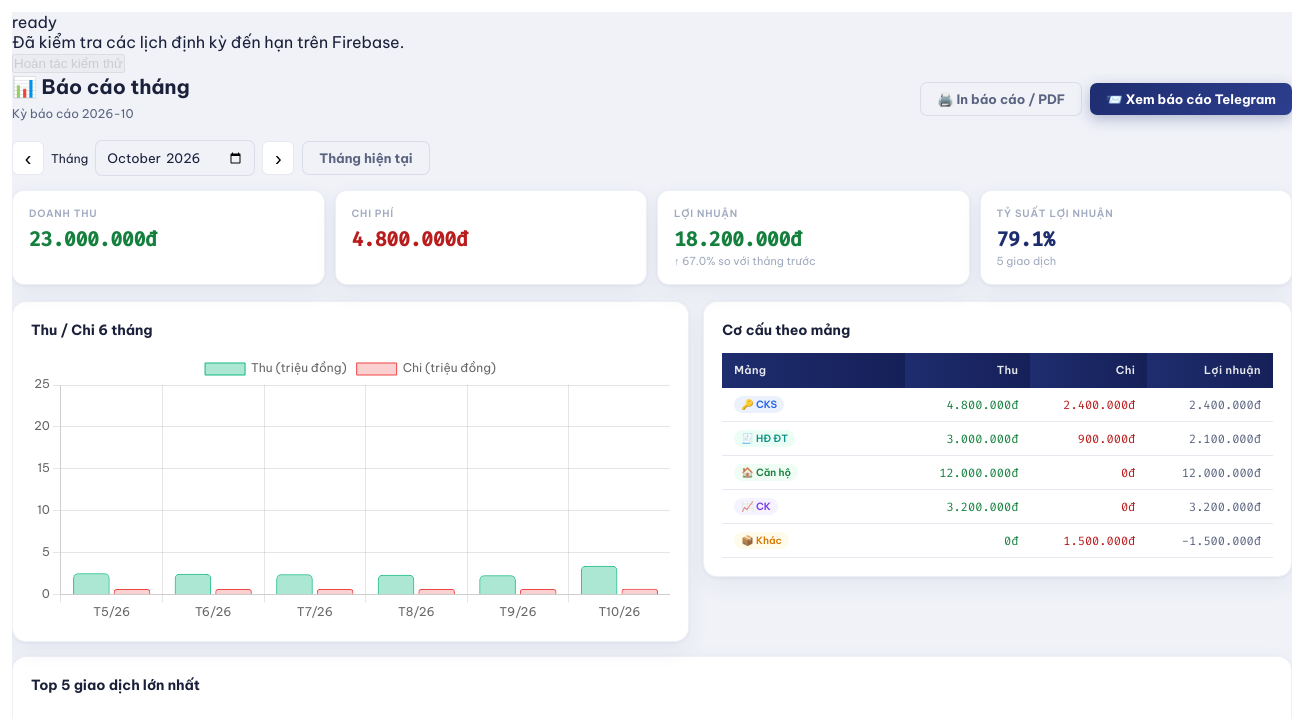
it: mock integrations and safety boundaries › renders reports and navigates report months without live services
Expected: the text with test id "ready" reads "ready", [12,12,57,32]
Expected: the heading "📊 Báo cáo tháng" is shown, [12,73,190,101]
Click the button named "Tháng trước". click: (28, 158)
box: [12,141,44,175]
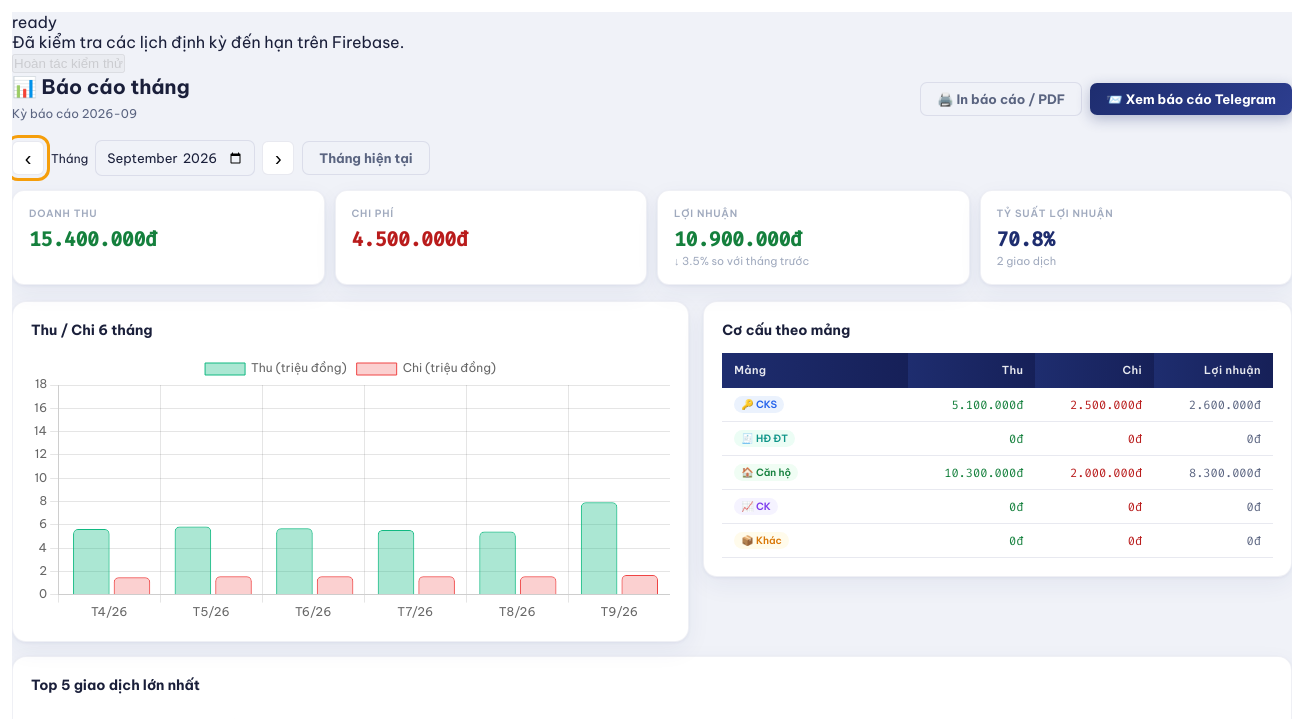
Now the field named "Chọn tháng" does not hold "2026-10", box [95,140,255,176]
